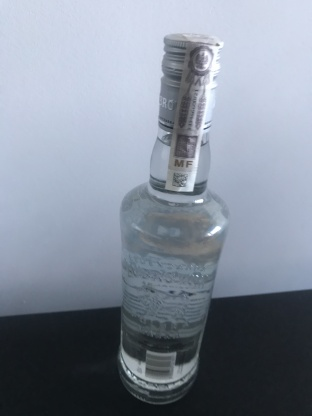nakretka: (155, 28, 226, 135)
